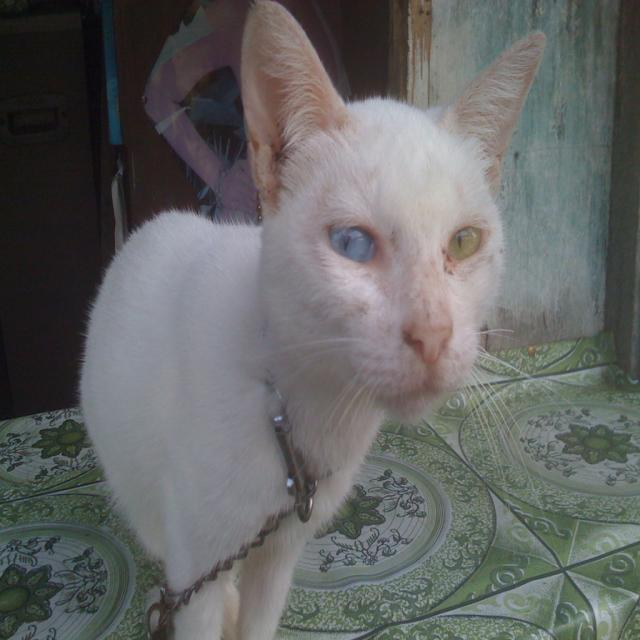Cat: (72, 0, 592, 639)
